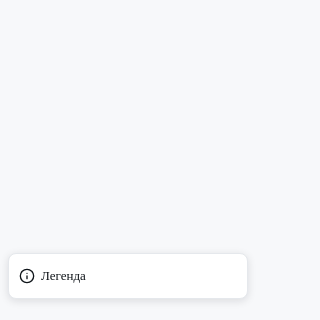
Test: Legend › на мобильном свёрнута в кнопку, которая раскрывает список классов
Click the button "Легенда". click: (52, 276)
box: [9,254,96,298]
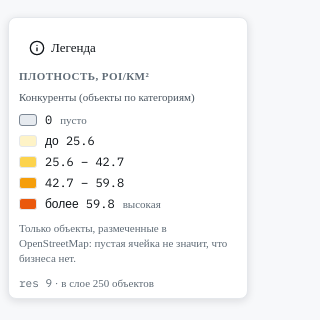
Check: the button "Легенда" is expanded, box [19,26,106,70]
